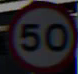Speed limit: (8, 4, 73, 65)
